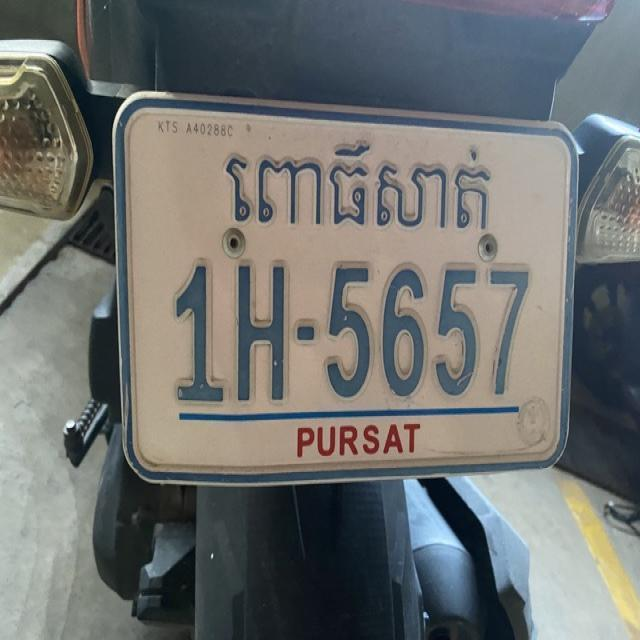Pursat: (221, 135, 494, 245)
